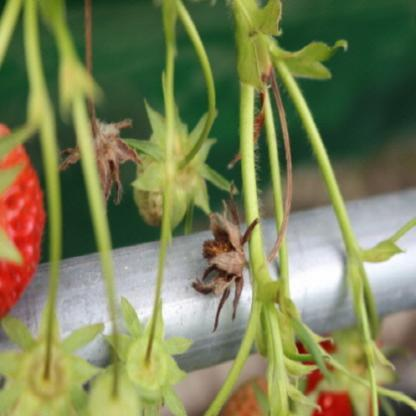Strawberry_Gray_Mold: (191, 183, 261, 334), (58, 100, 144, 206)
